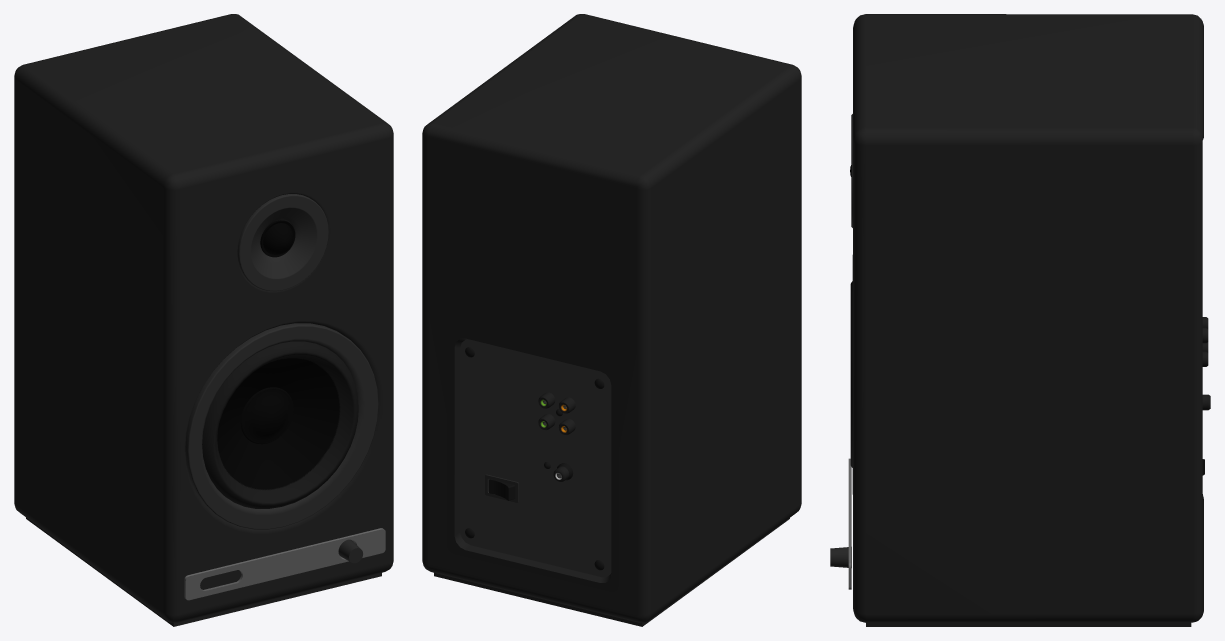
Rendered from Speaker.glb.
The picture shows the model from 3 angles, left to right: view 1: azimuth 30°, elevation 25°; view 2: azimuth 150°, elevation 25°; view 3: azimuth 270°, elevation 25°; orthographic projection. The views are drawn at different scales.
Visible parts, largest first — view 1: speaker.1; view 2: speaker.1; view 3: speaker.1.
Part boxes in pixels (left/top/right/bottom): speaker.1: left=14, top=14, right=393, bottom=626; speaker.1: left=422, top=14, right=801, bottom=626; speaker.1: left=830, top=14, right=1210, bottom=626.
Bounding box in the file's own units: 0.2245 × 0.4252 × 0.2932.
1 material, 1 textured.
